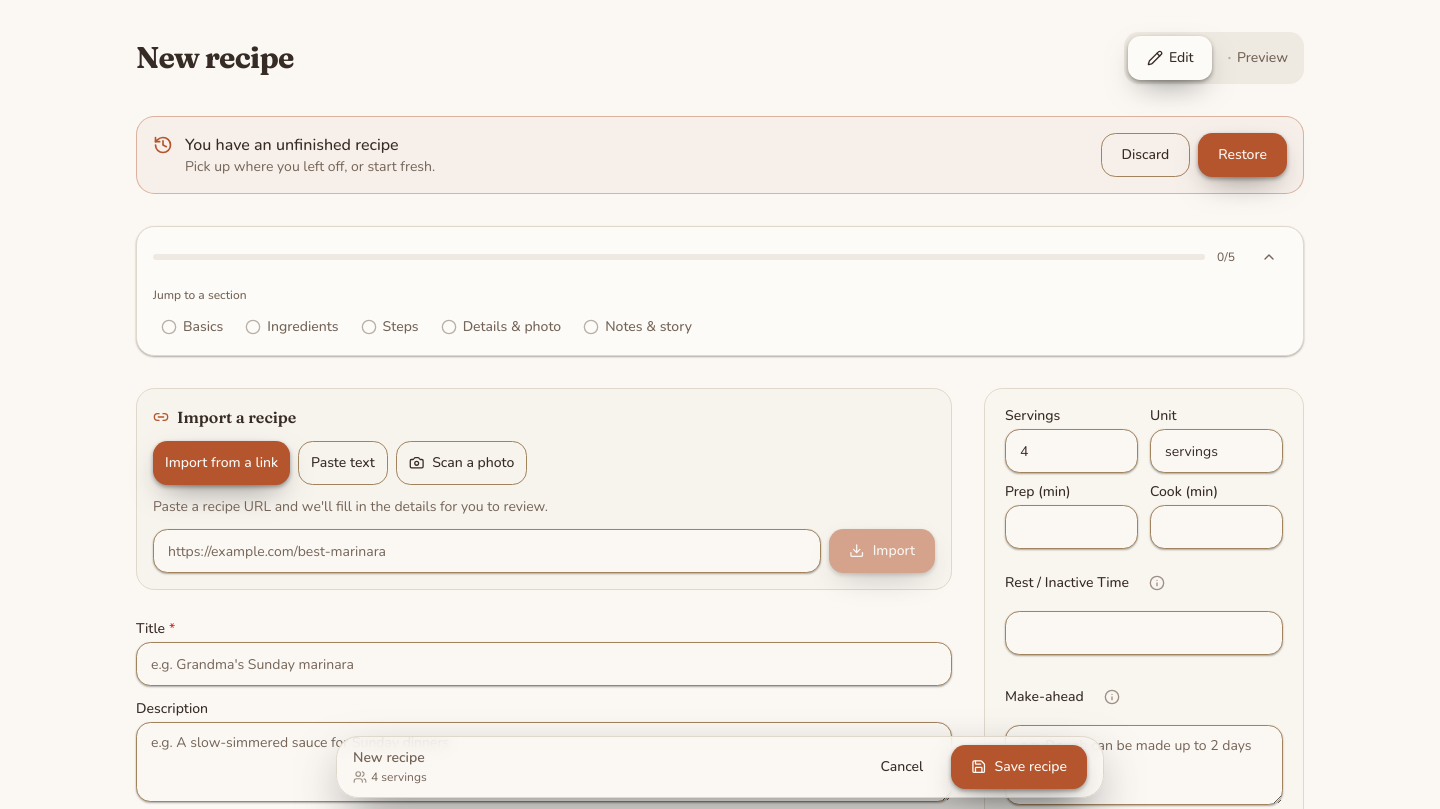
Test: RecipeEditor draft recovery and exit guard (#115) › offers a local draft without replacing server-loaded form state
Expected: the element "unfinished recipe" is shown, x1=136 y1=116 x2=1304 y2=194
Expected: the field labelled "Title *" is empty, x1=136 y1=642 x2=952 y2=686
Click the button "Restore" at (1243, 155), box x1=1198 y1=133 x2=1287 y2=177
(page scrolled)
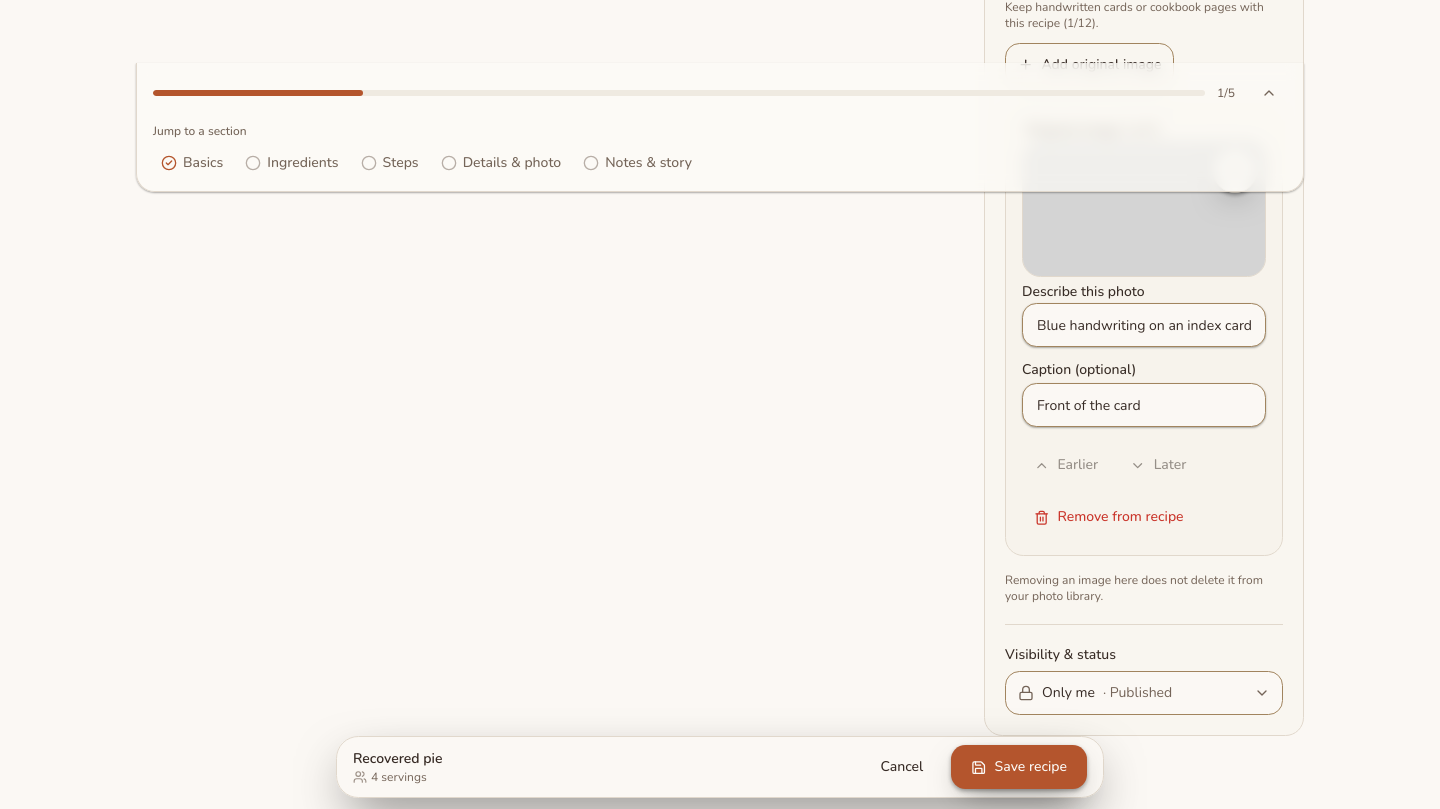
Expected: the field with placeholder "Front of Grandma's recipe card" holds "Front of the card", x1=1022 y1=383 x2=1266 y2=427
